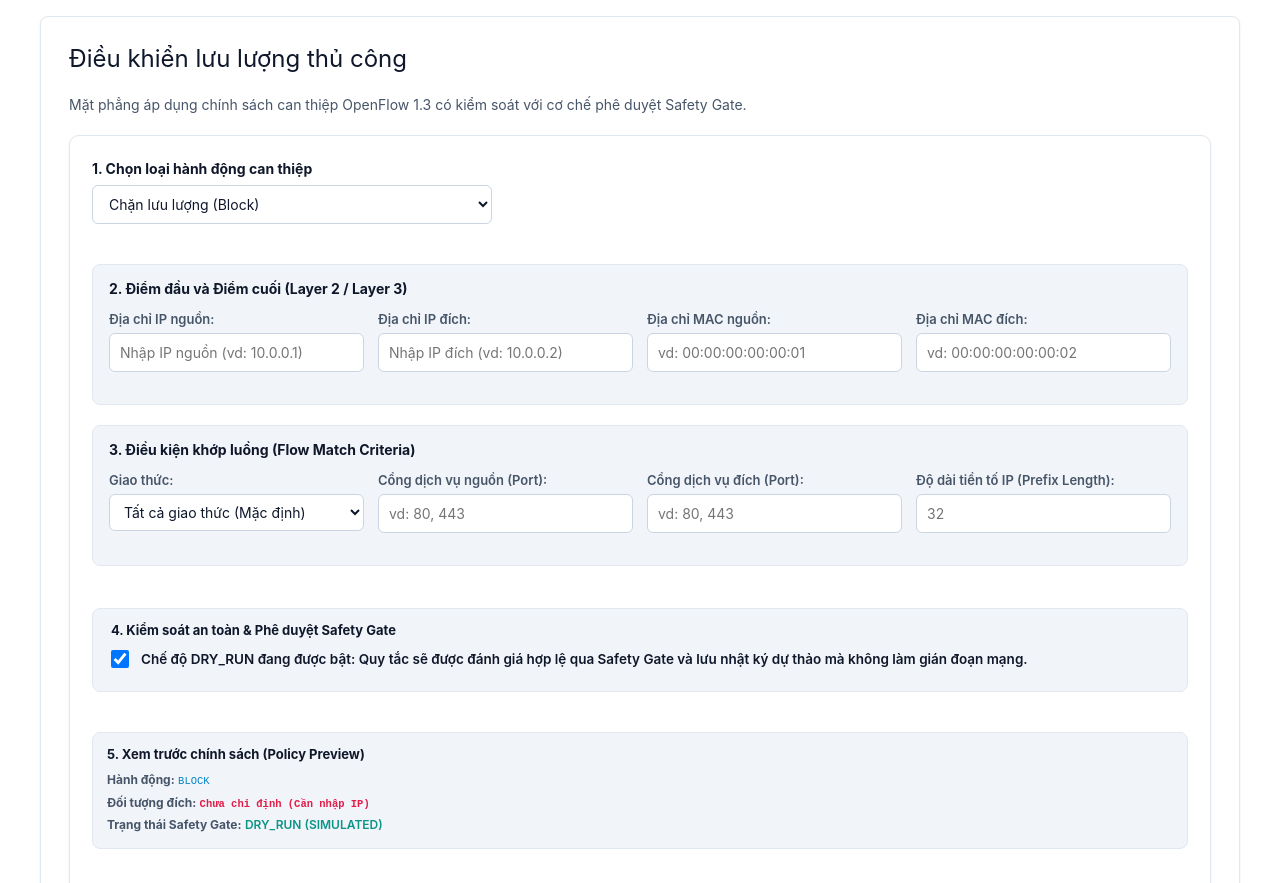
Test: ManualTrafficControl 5-Step Execution Workflow › validates negative rate limit input
Select "Giới hạn tốc độ (Rate Limit)" in the dropdown below "1. Chọn loại hành động can thiệp" at coordinates (292, 204), box [92,185,492,224]
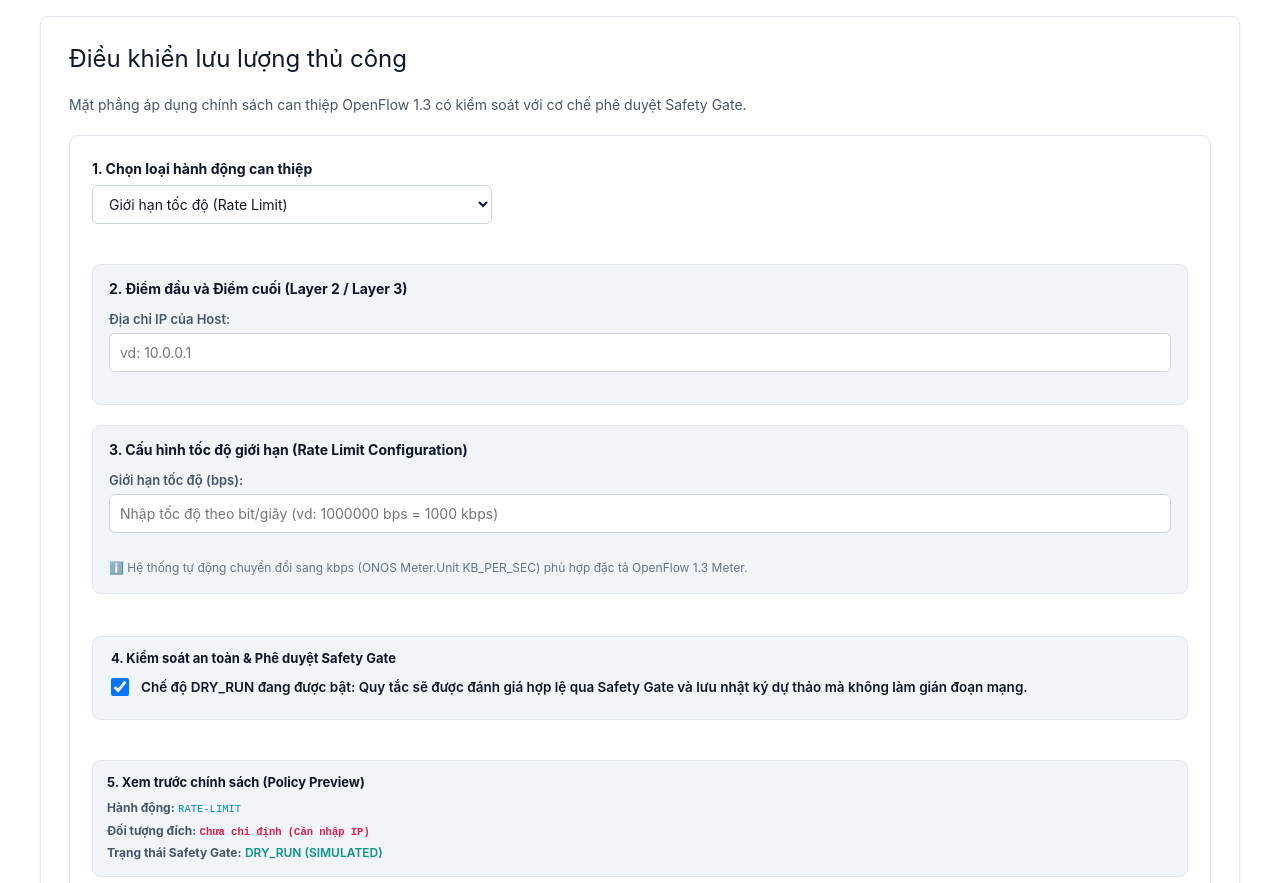
Type "10.0.0.1" into the field with placeholder "vd: 10.0.0.1" at coordinates (640, 353), box [109,333,1171,372]
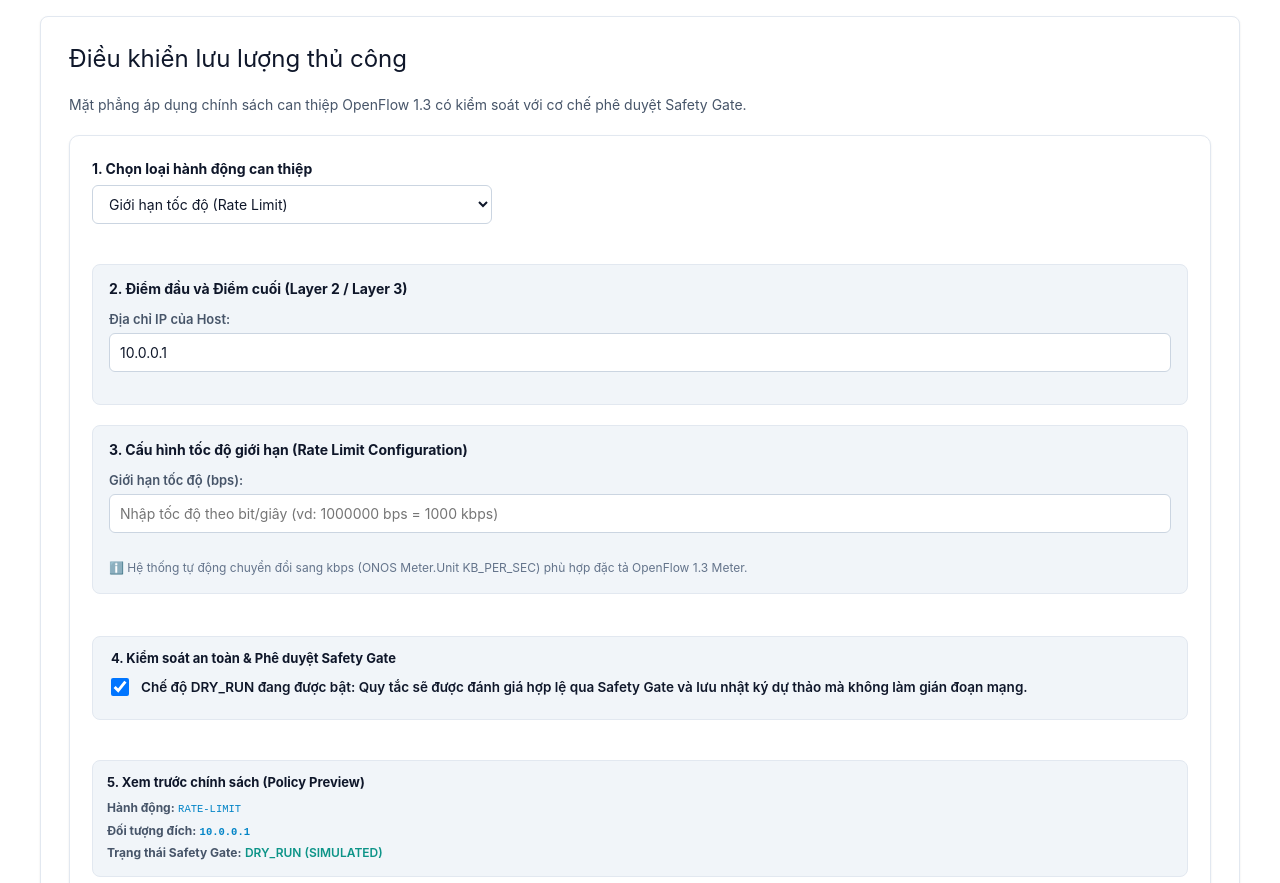
Type "-500" into the number field with placeholder "Nhập tốc độ theo bit/giây (vd: 1000000 bps = 1000 kbps)" at coordinates (640, 514), box [109,494,1171,533]
(page scrolled)
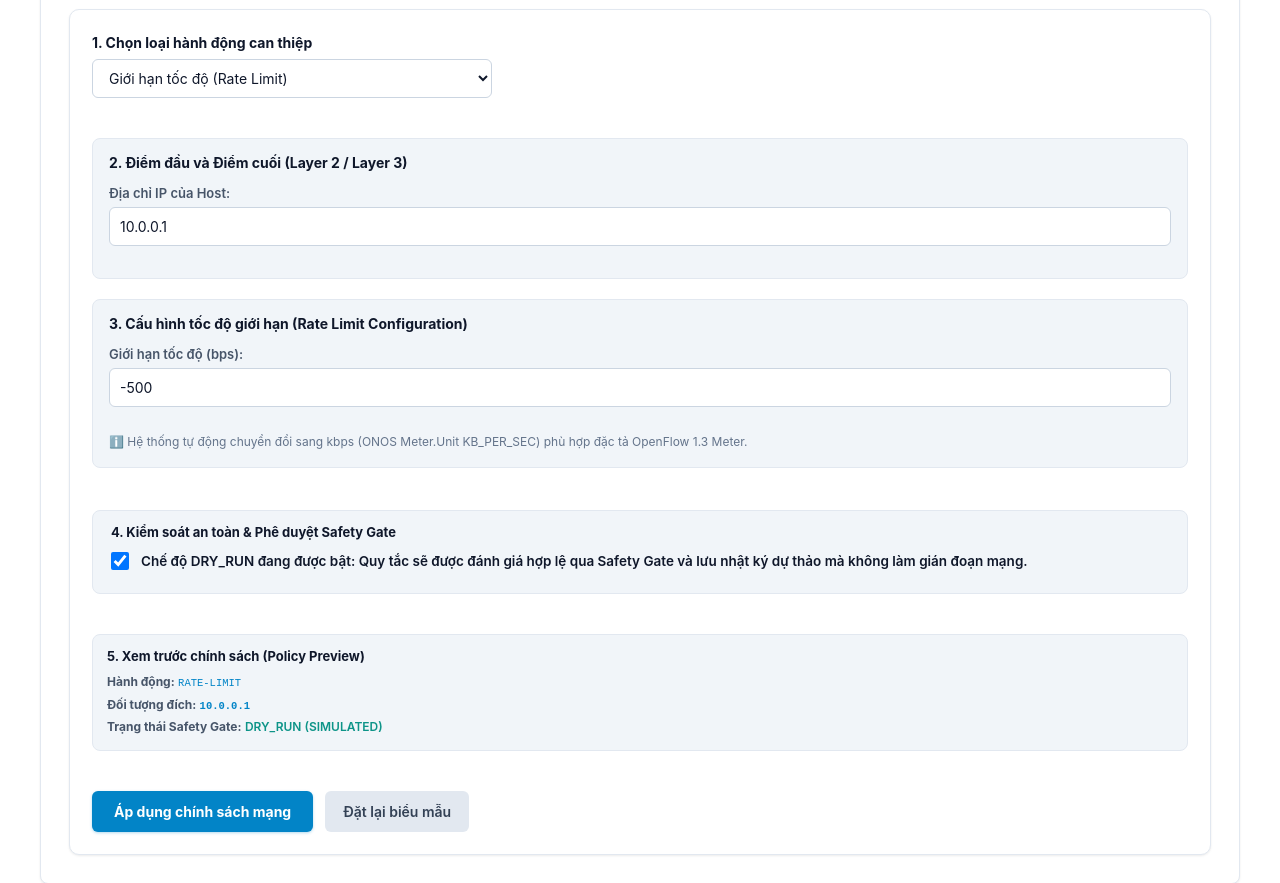
Click the button "Áp dụng chính sách mạng" at coordinates (203, 812), box [92,791,313,832]
(page scrolled)
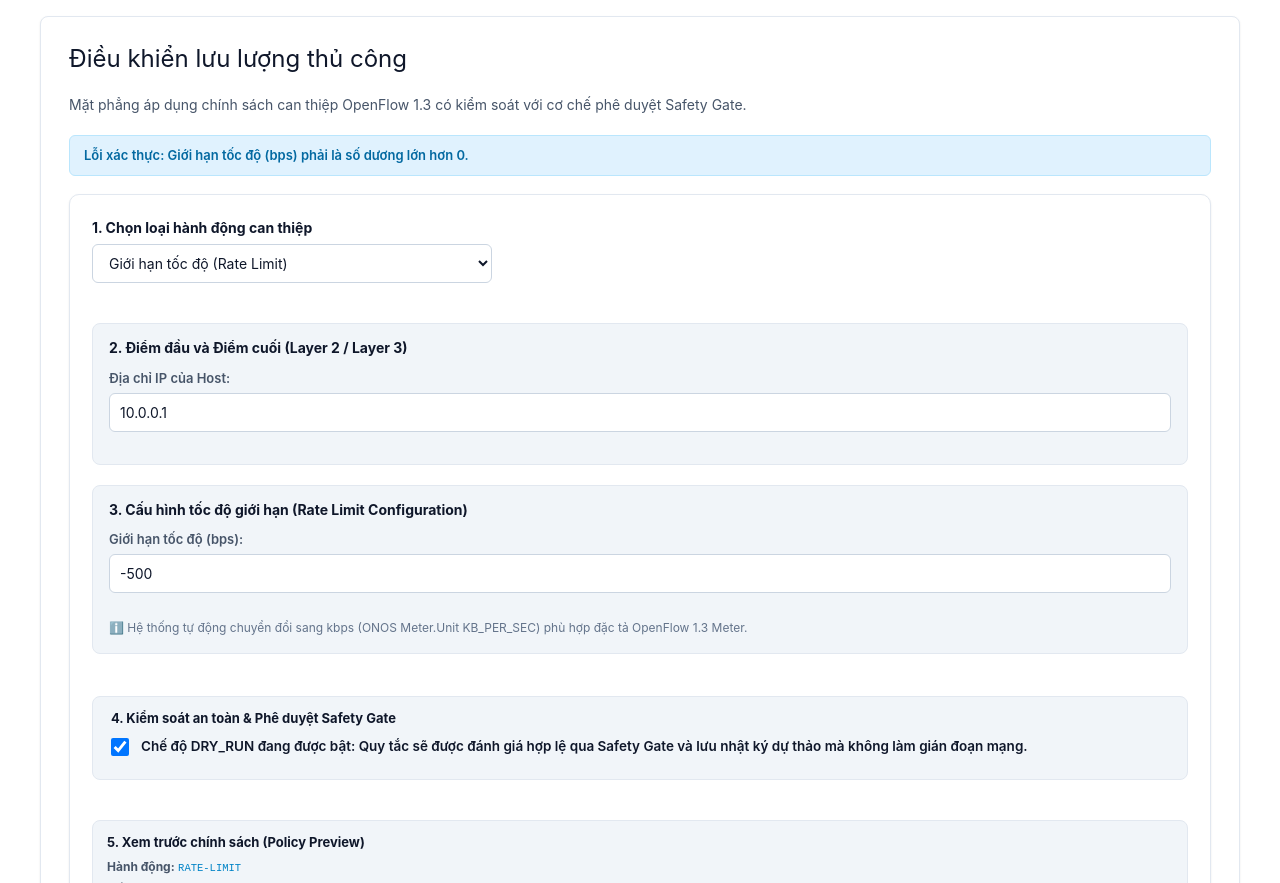
Now the text "Lỗi xác thực: Giới hạn tốc độ" is shown, box [84,147,469,163]
